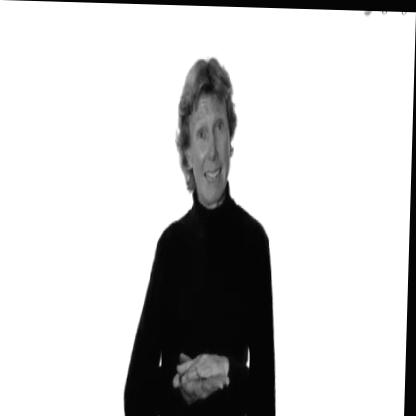NiceToMeetYou: (162, 319, 253, 416)
